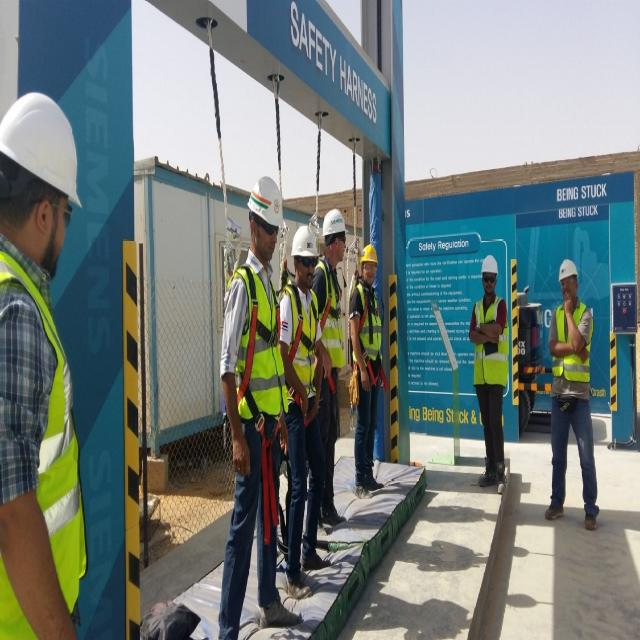Reflective-Jacket: (0, 248, 92, 633), (232, 260, 290, 420), (284, 284, 322, 400), (313, 261, 347, 371), (472, 297, 512, 387), (552, 302, 592, 387), (356, 282, 384, 368)
Safety-Helmet: (0, 84, 88, 214), (246, 170, 286, 229), (290, 224, 318, 261), (322, 205, 347, 239), (557, 255, 579, 284), (480, 253, 499, 277), (359, 242, 379, 264)
